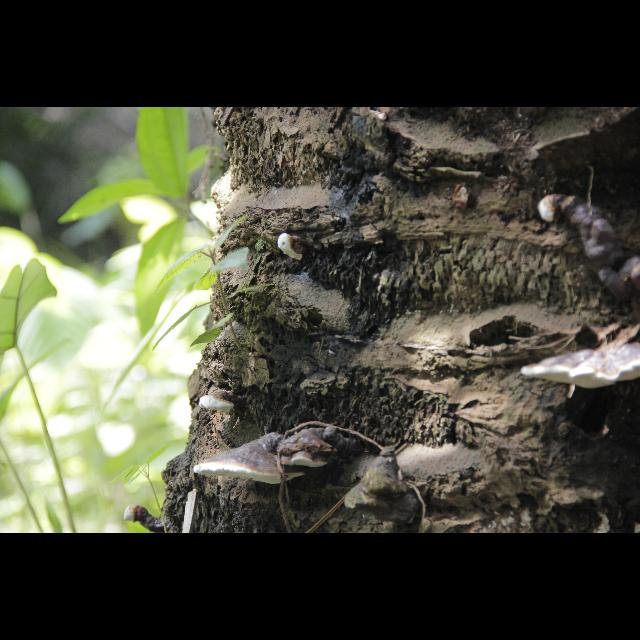ganoderma: (565, 196, 640, 302), (195, 434, 308, 487), (522, 343, 640, 391), (279, 427, 358, 469), (200, 393, 246, 414)
primordium: (278, 234, 308, 262), (538, 195, 564, 224), (124, 505, 151, 526)
